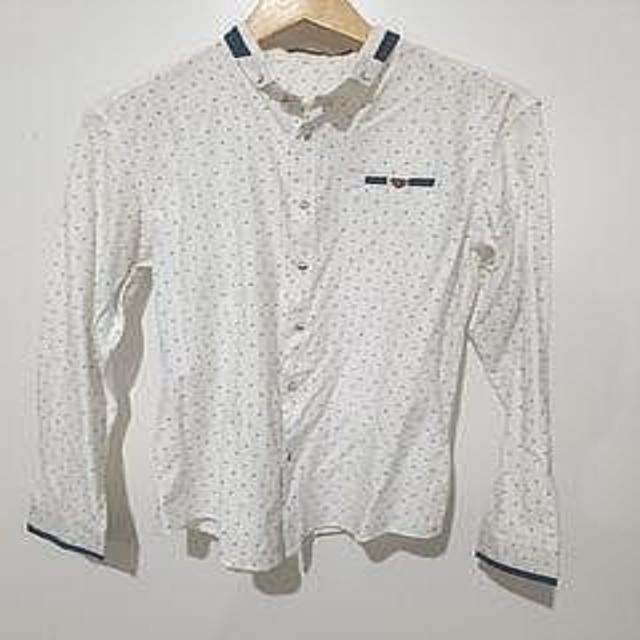SHIRT: (27, 29, 590, 597)
